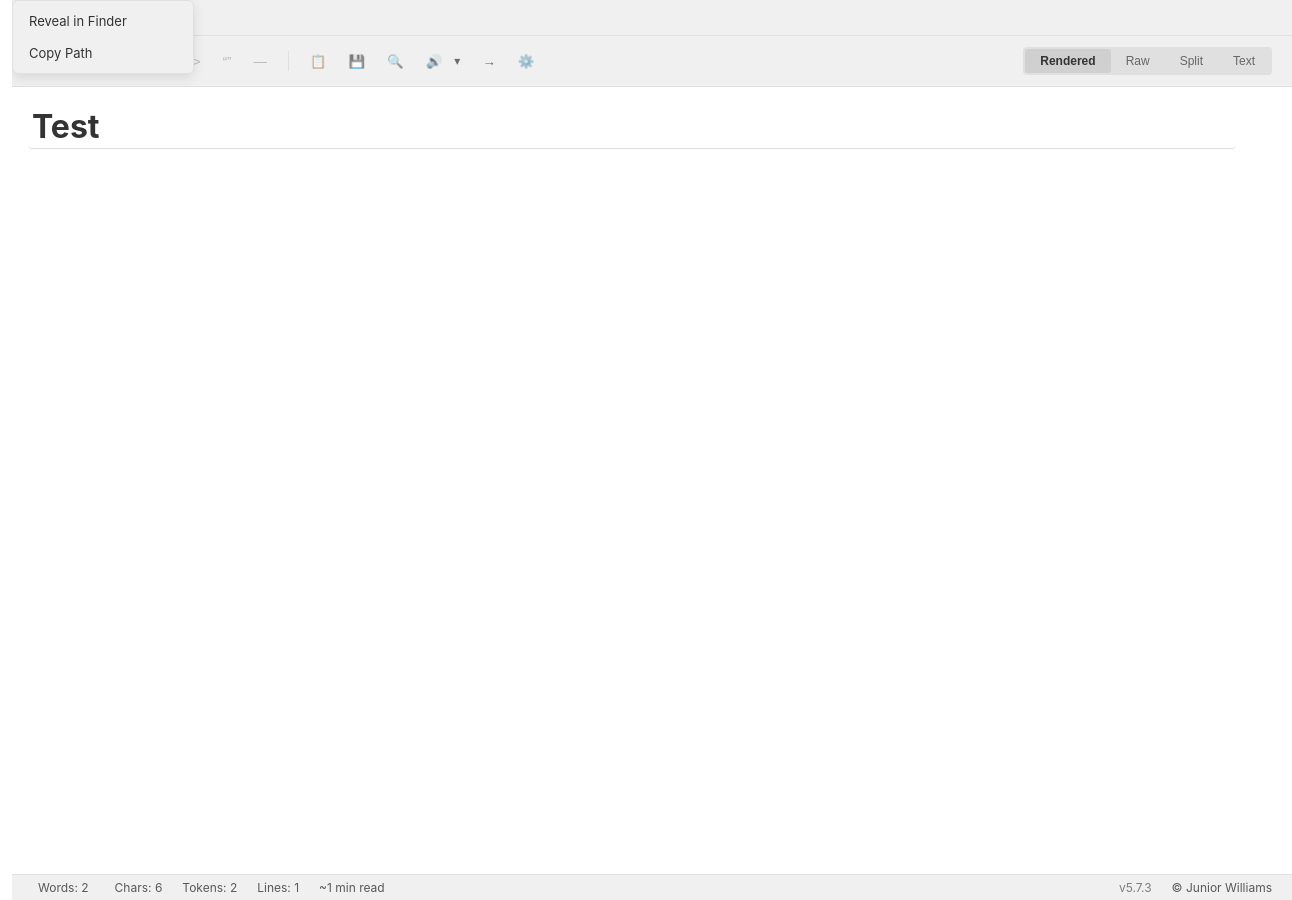
Scenario: App Integration Tests › Tab Context Menu › should close context menu after Copy Path click
expect the tab "test.md ×" is shown: met, box [22,7,121,35]
expect the menu is shown: met, box [12,0,194,74]
Click the menu item "Copy Path" at (103, 53), box [13,37,193,69]
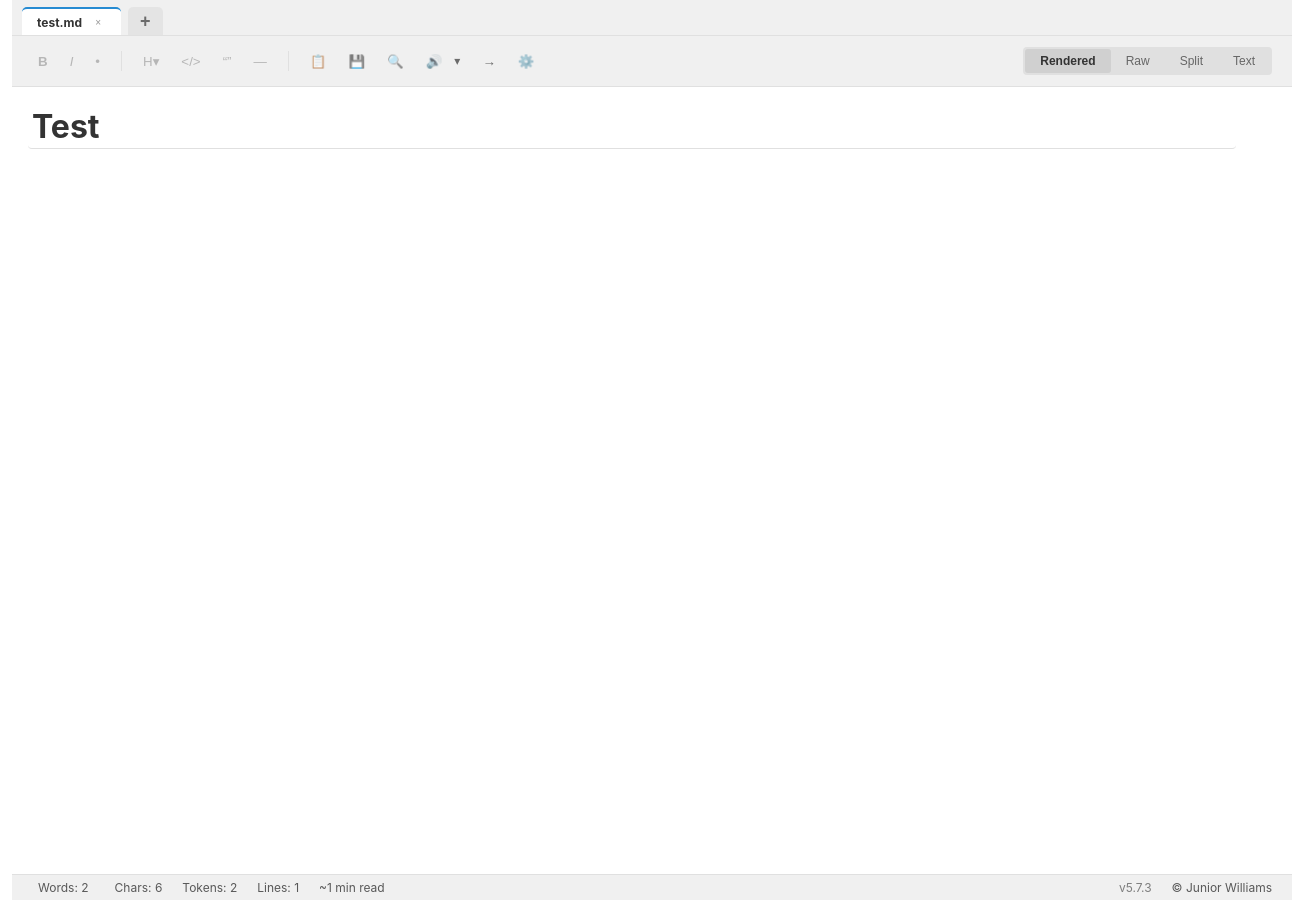
expect the menu is gone: met
